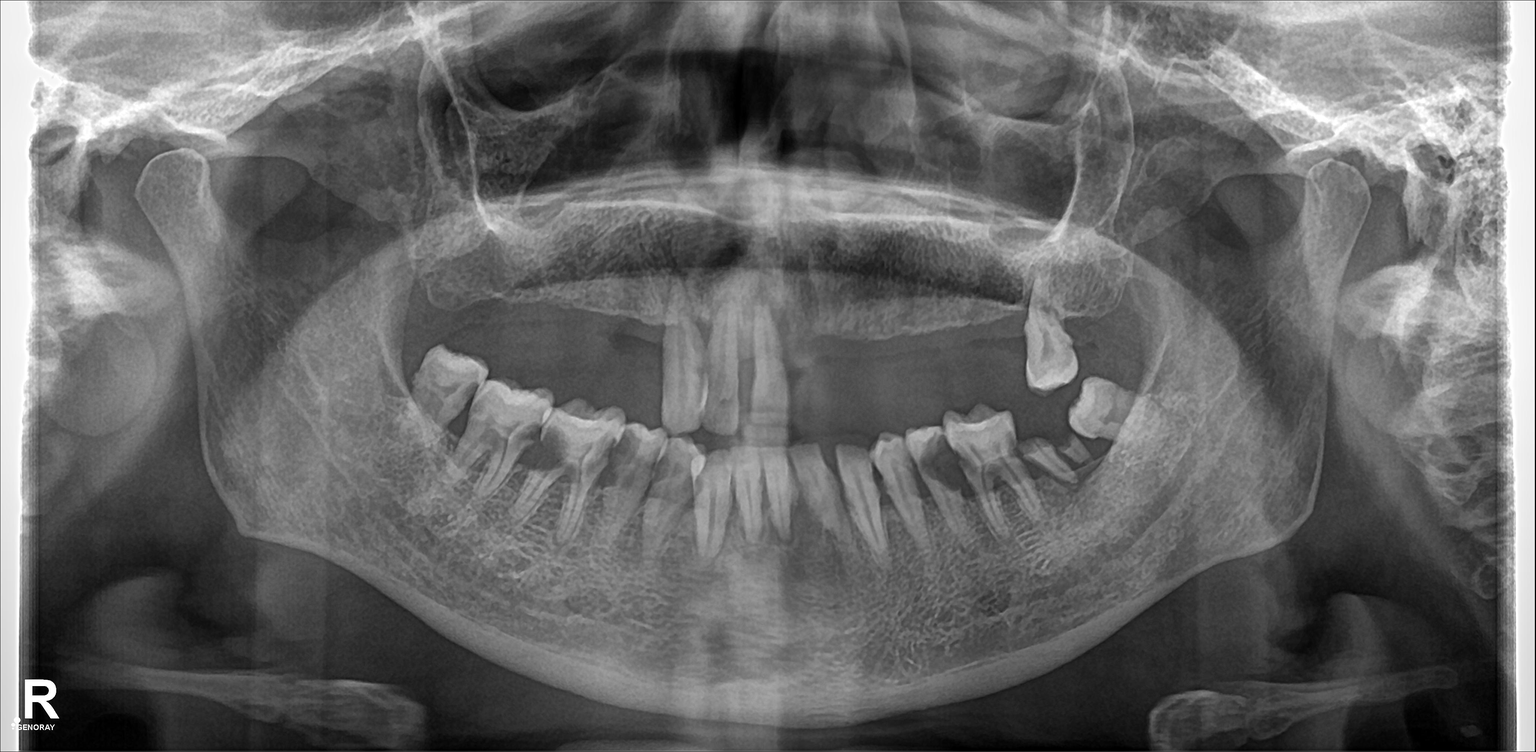Dental Caries: (920, 437, 971, 492)
Impacted Third Molar: (402, 354, 481, 442), (1072, 374, 1164, 445)
Missing Tooth: (1061, 257, 1134, 371), (920, 307, 970, 419), (782, 315, 834, 416), (978, 298, 1028, 402), (616, 277, 663, 380), (553, 277, 603, 364), (508, 262, 551, 355), (881, 302, 916, 413), (469, 262, 511, 347), (840, 309, 876, 407), (423, 259, 466, 341)
Retained Root: (1017, 410, 1083, 514)
